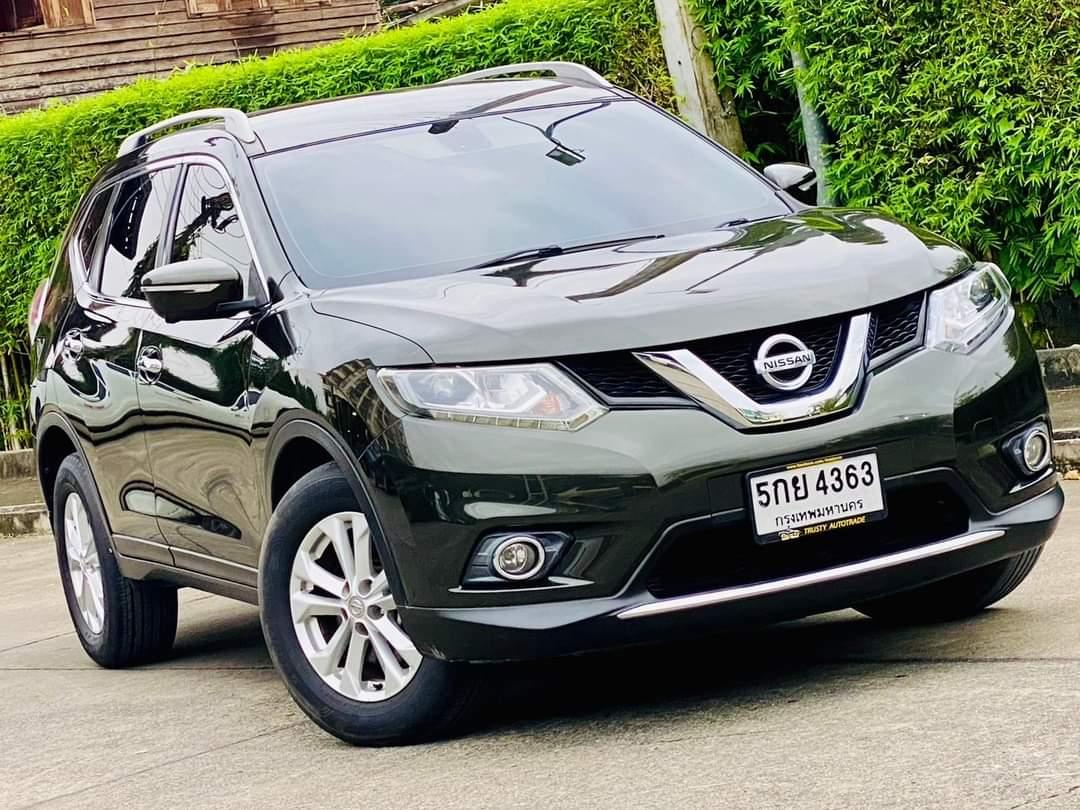license-plate: (737, 446, 889, 543)
